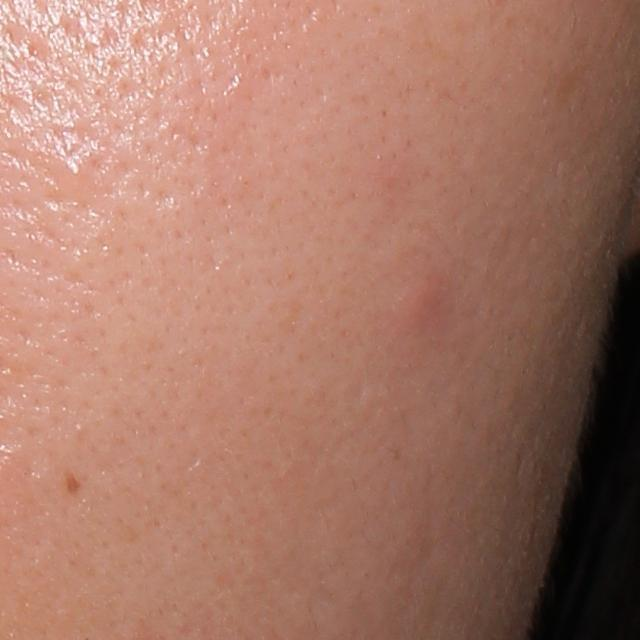comedo: (62, 158, 89, 187)
nevus: (56, 469, 81, 503)
papule: (387, 272, 446, 325)
